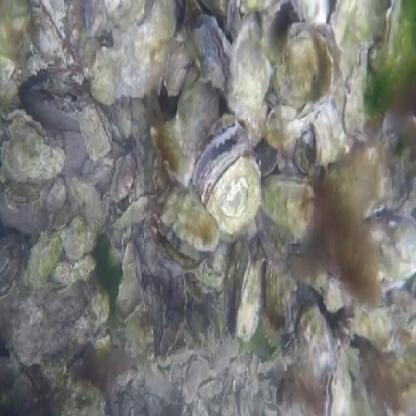Oyster- Indeterminate: (363, 209, 416, 290), (345, 49, 384, 144), (261, 175, 322, 233), (378, 0, 416, 91), (29, 0, 66, 61), (165, 32, 192, 98), (324, 354, 352, 416), (289, 0, 331, 25)
Oyster-Closed: (92, 0, 175, 102), (228, 15, 271, 144), (153, 114, 195, 184), (178, 77, 218, 147), (265, 265, 298, 335), (299, 300, 332, 351), (80, 103, 110, 158), (65, 216, 85, 259), (117, 155, 135, 198), (85, 157, 113, 182), (48, 206, 71, 234), (48, 179, 65, 212)
Oyster-Open: (192, 121, 259, 232), (157, 185, 221, 269), (274, 24, 341, 104), (0, 110, 67, 182), (192, 15, 236, 94), (242, 0, 288, 18)
